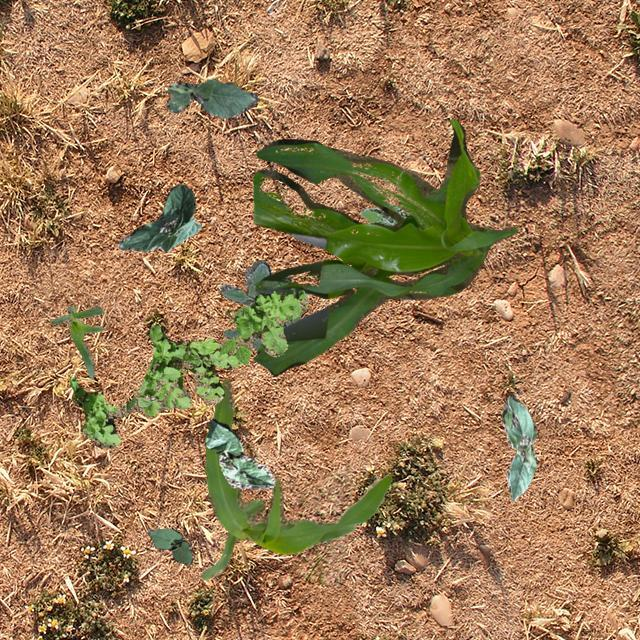crop: (253, 118, 516, 374), (200, 376, 392, 578), (116, 183, 200, 250), (204, 418, 274, 488), (49, 304, 102, 378), (500, 394, 536, 500), (166, 78, 256, 116), (147, 528, 190, 564)
weed: (69, 289, 308, 447), (218, 258, 300, 349), (358, 204, 408, 226)
